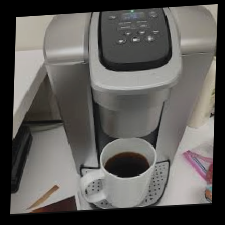10oz: (131, 37, 141, 44)
12oz: (145, 37, 155, 43)
4oz: (123, 31, 132, 37)
6oz: (138, 29, 148, 36)
8oz: (116, 39, 126, 45)
